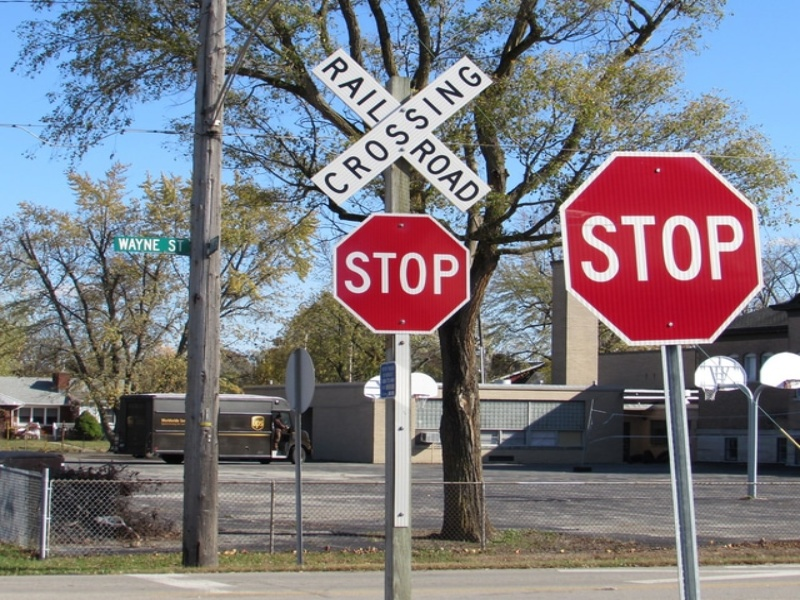stop sign: (556, 149, 768, 348), (330, 211, 472, 337)
